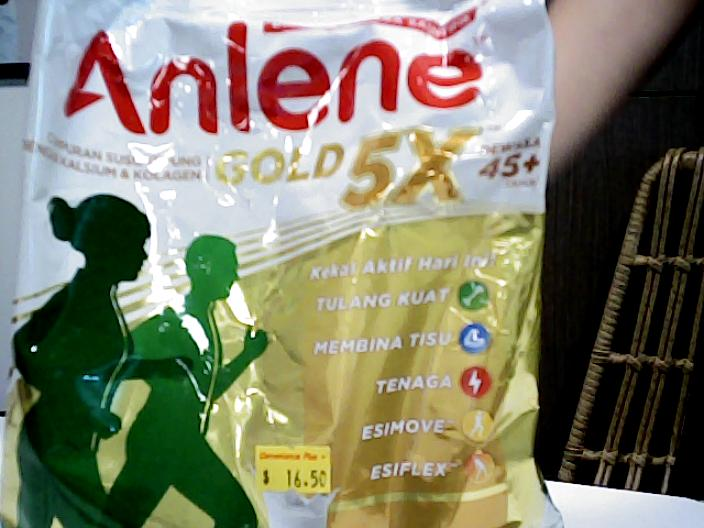Adult_Milk_1000-1999g_Halal_NonHealthy: (4, 1, 544, 528)
